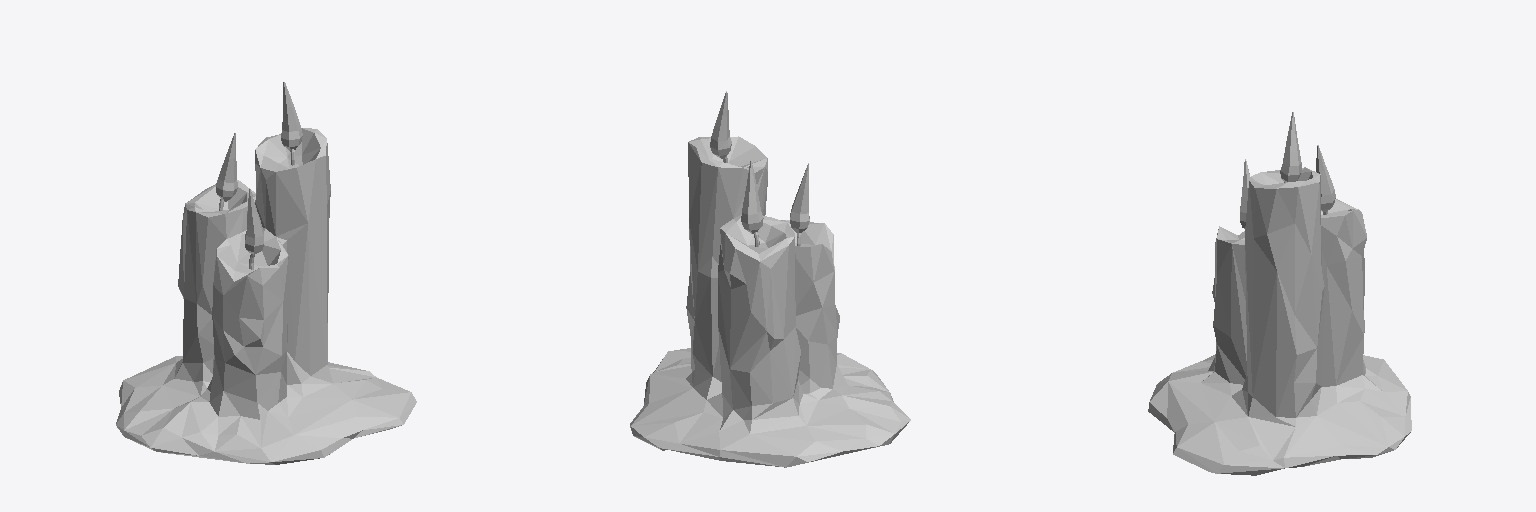
The model's file is candle0.obj.
3 renders of one model, left to right at view 1: azimuth 30°, elevation 25°; view 2: azimuth 150°, elevation 25°; view 3: azimuth 270°, elevation 25°, orthographic.
Visible parts, largest first — view 1: Object003, candleflame003, candleflame002, candleflame001; view 2: Object003, candleflame002, candleflame003, candleflame001; view 3: Object003, candleflame003, candleflame002.
Boxes of the visible parts, x1,y1,x2,y2 form: Object003: [116, 128, 416, 464]; candleflame003: [281, 82, 302, 150]; candleflame002: [216, 133, 237, 201]; candleflame001: [245, 189, 263, 254]; Object003: [630, 136, 910, 467]; candleflame002: [741, 161, 763, 233]; candleflame003: [710, 91, 731, 158]; candleflame001: [790, 163, 809, 232]; Object003: [1148, 167, 1411, 475]; candleflame003: [1280, 112, 1301, 182]; candleflame002: [1316, 145, 1335, 211].
Bounding box in the file's own units: 1.05 × 1.24 × 0.9231.